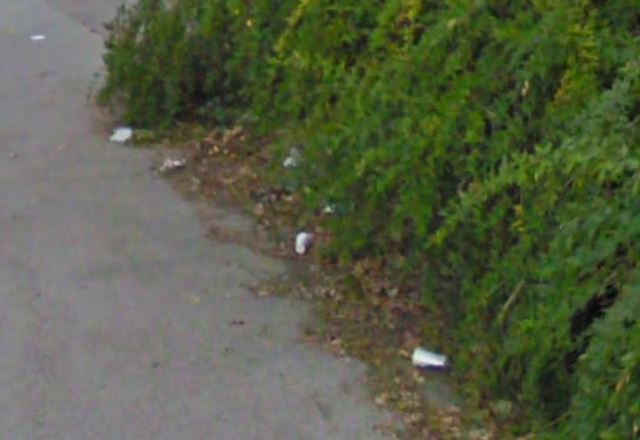trash: (408, 336, 454, 376), (150, 157, 197, 176), (108, 125, 143, 148), (292, 222, 317, 254), (284, 148, 306, 169), (28, 31, 46, 40)
